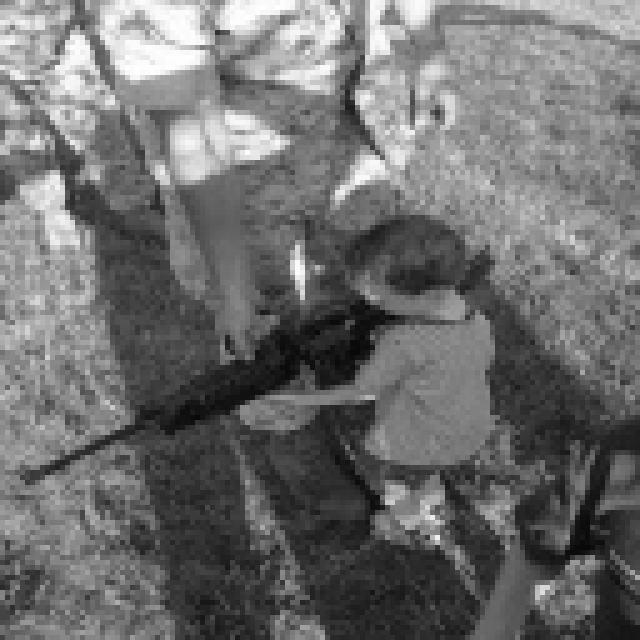Rifle: (6, 232, 518, 492)
